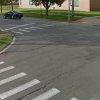Crosswalk: (3, 58, 73, 100)
